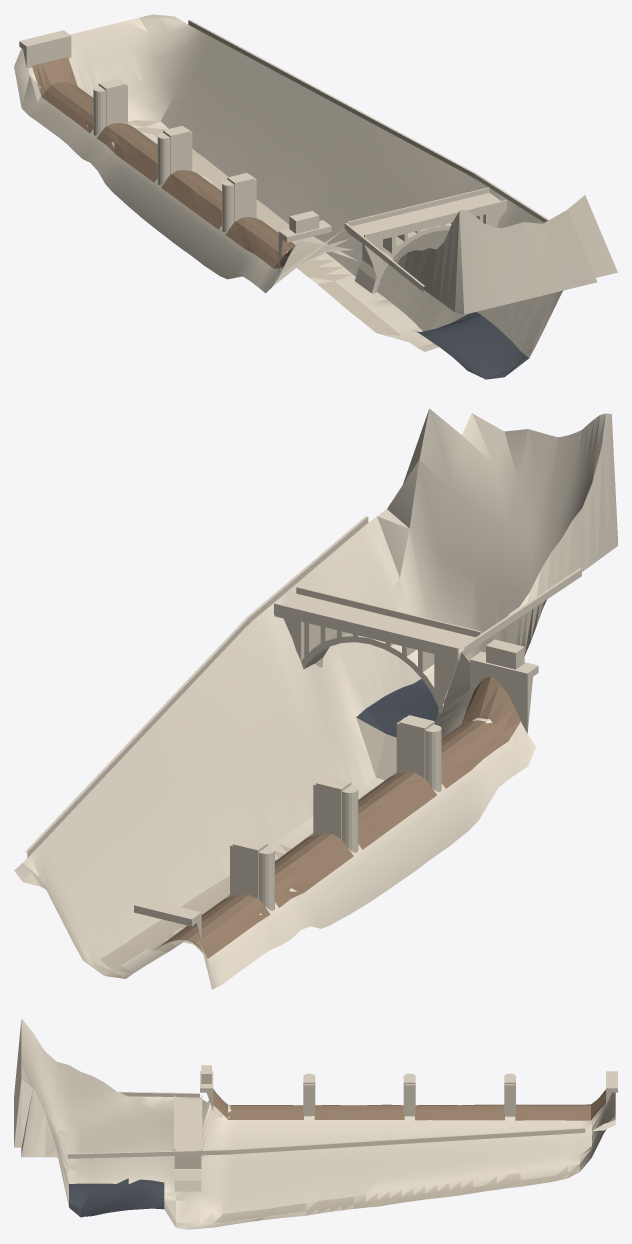
Rendered from lv-hoover-dam-arizona-spillway.glb.
The picture shows the model from 3 angles, top to bottom: view 1: azimuth 30°, elevation 25°; view 2: azimuth 150°, elevation 25°; view 3: azimuth 270°, elevation 25°; orthographic projection. The views are drawn at different scales.
Visible parts, largest first — view 1: Arizona Spillway; view 2: Arizona Spillway; view 3: Arizona Spillway.
Part boxes in pixels (x1,y1,x2,y2): Arizona Spillway: [14, 14, 617, 379]; Arizona Spillway: [14, 408, 617, 989]; Arizona Spillway: [14, 1018, 617, 1229].
Bounding box in the file's own units: 68.12 × 66.97 × 203.
